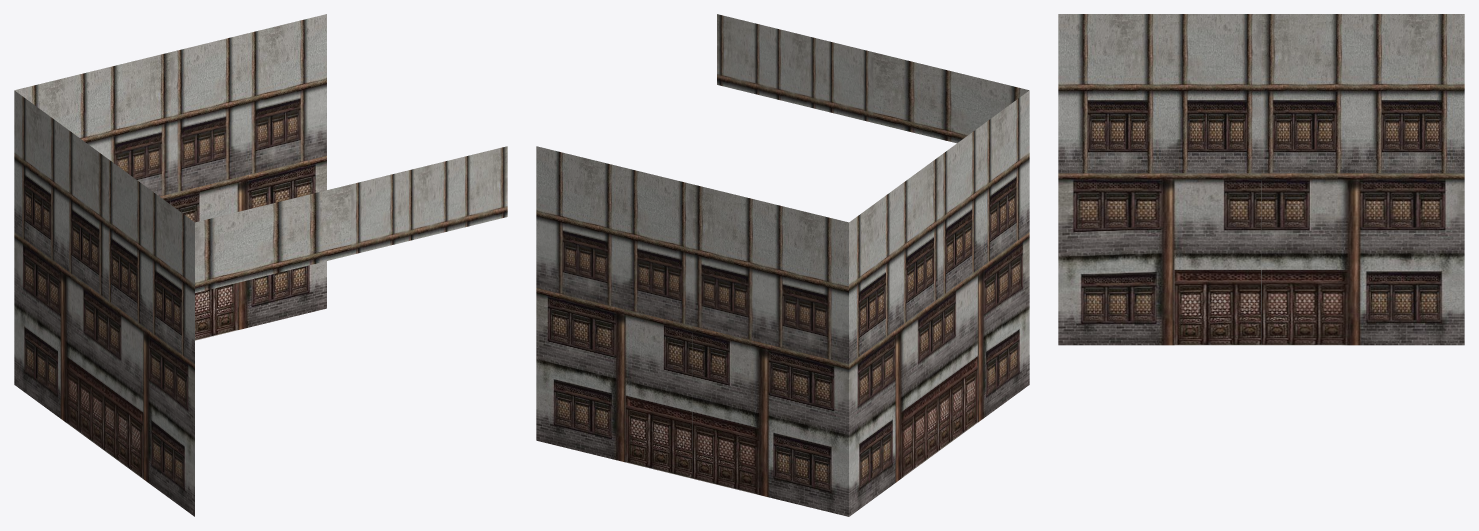
3 renders of one model, left to right at view 1: azimuth 30°, elevation 25°; view 2: azimuth 150°, elevation 25°; view 3: azimuth 270°, elevation 25°, orthographic. The views are drawn at different scales.
Visible parts, largest first — view 1: Box69; view 2: Box69; view 3: Box69.
Boxes of the visible parts, left/top/right/bottom form: Box69: left=14, top=14, right=507, bottom=516; Box69: left=536, top=14, right=1029, bottom=516; Box69: left=1058, top=14, right=1464, bottom=345.
Size of the model in its own units: 300 by 270 by 300.
